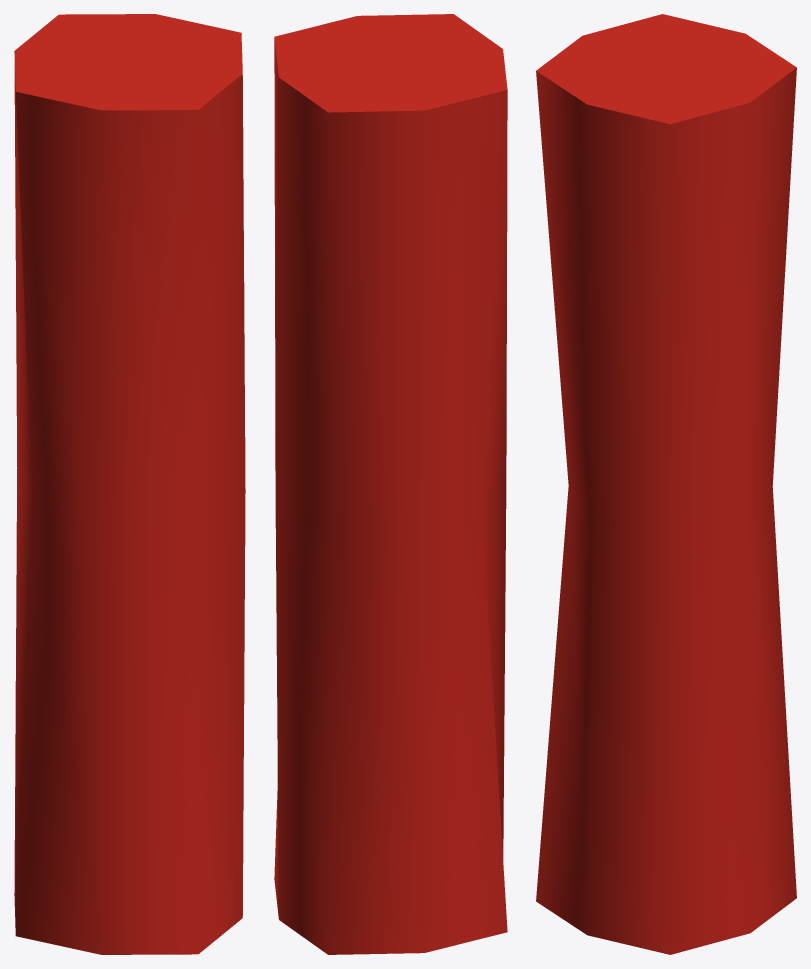
Rendered from candleStick.gltf.
The picture shows the model from 3 angles, left to right: view 1: azimuth 30°, elevation 25°; view 2: azimuth 150°, elevation 25°; view 3: azimuth 270°, elevation 25°; orthographic projection.
Parts seen in each view (by area): view 1: bougie1; view 2: bougie1; view 3: bougie1.
Part boxes in pixels (x1,y1,x2,y2): bougie1: (14, 14, 245, 954); bougie1: (274, 14, 507, 954); bougie1: (536, 14, 796, 954).
Bounding box in the file's own units: 0.0234 × 0.0821 × 0.0234.
